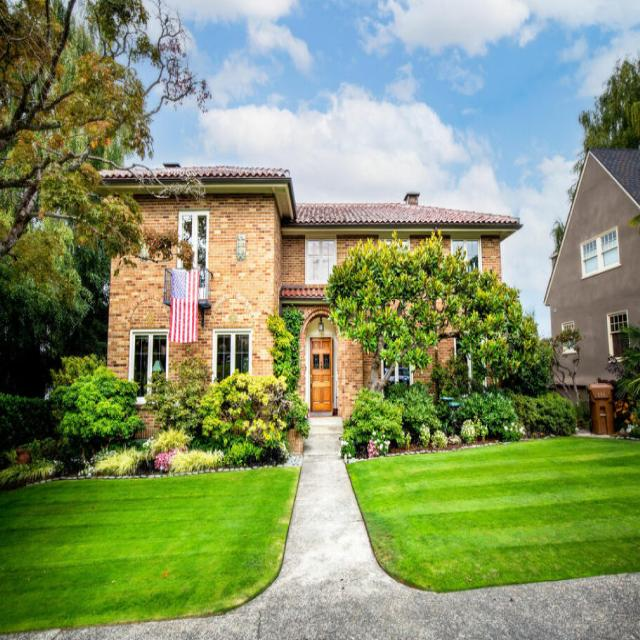Fachada: (101, 163, 521, 429), (544, 148, 639, 385)
